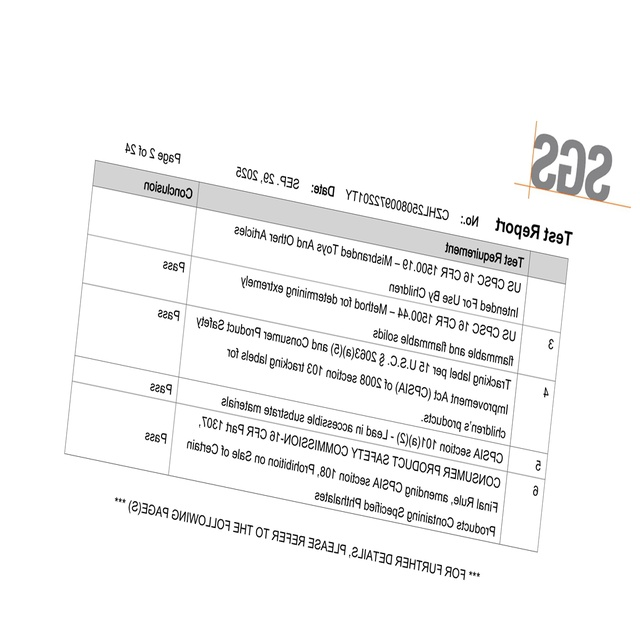sgs: (531, 132, 612, 202)
